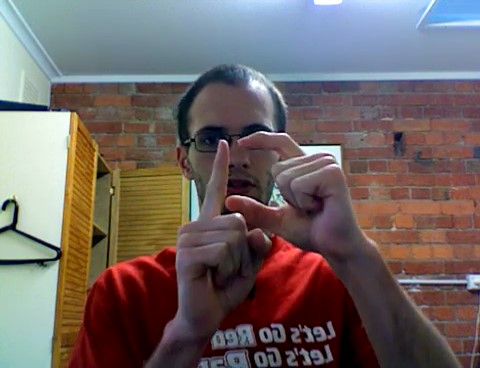D: (169, 125, 368, 325)
